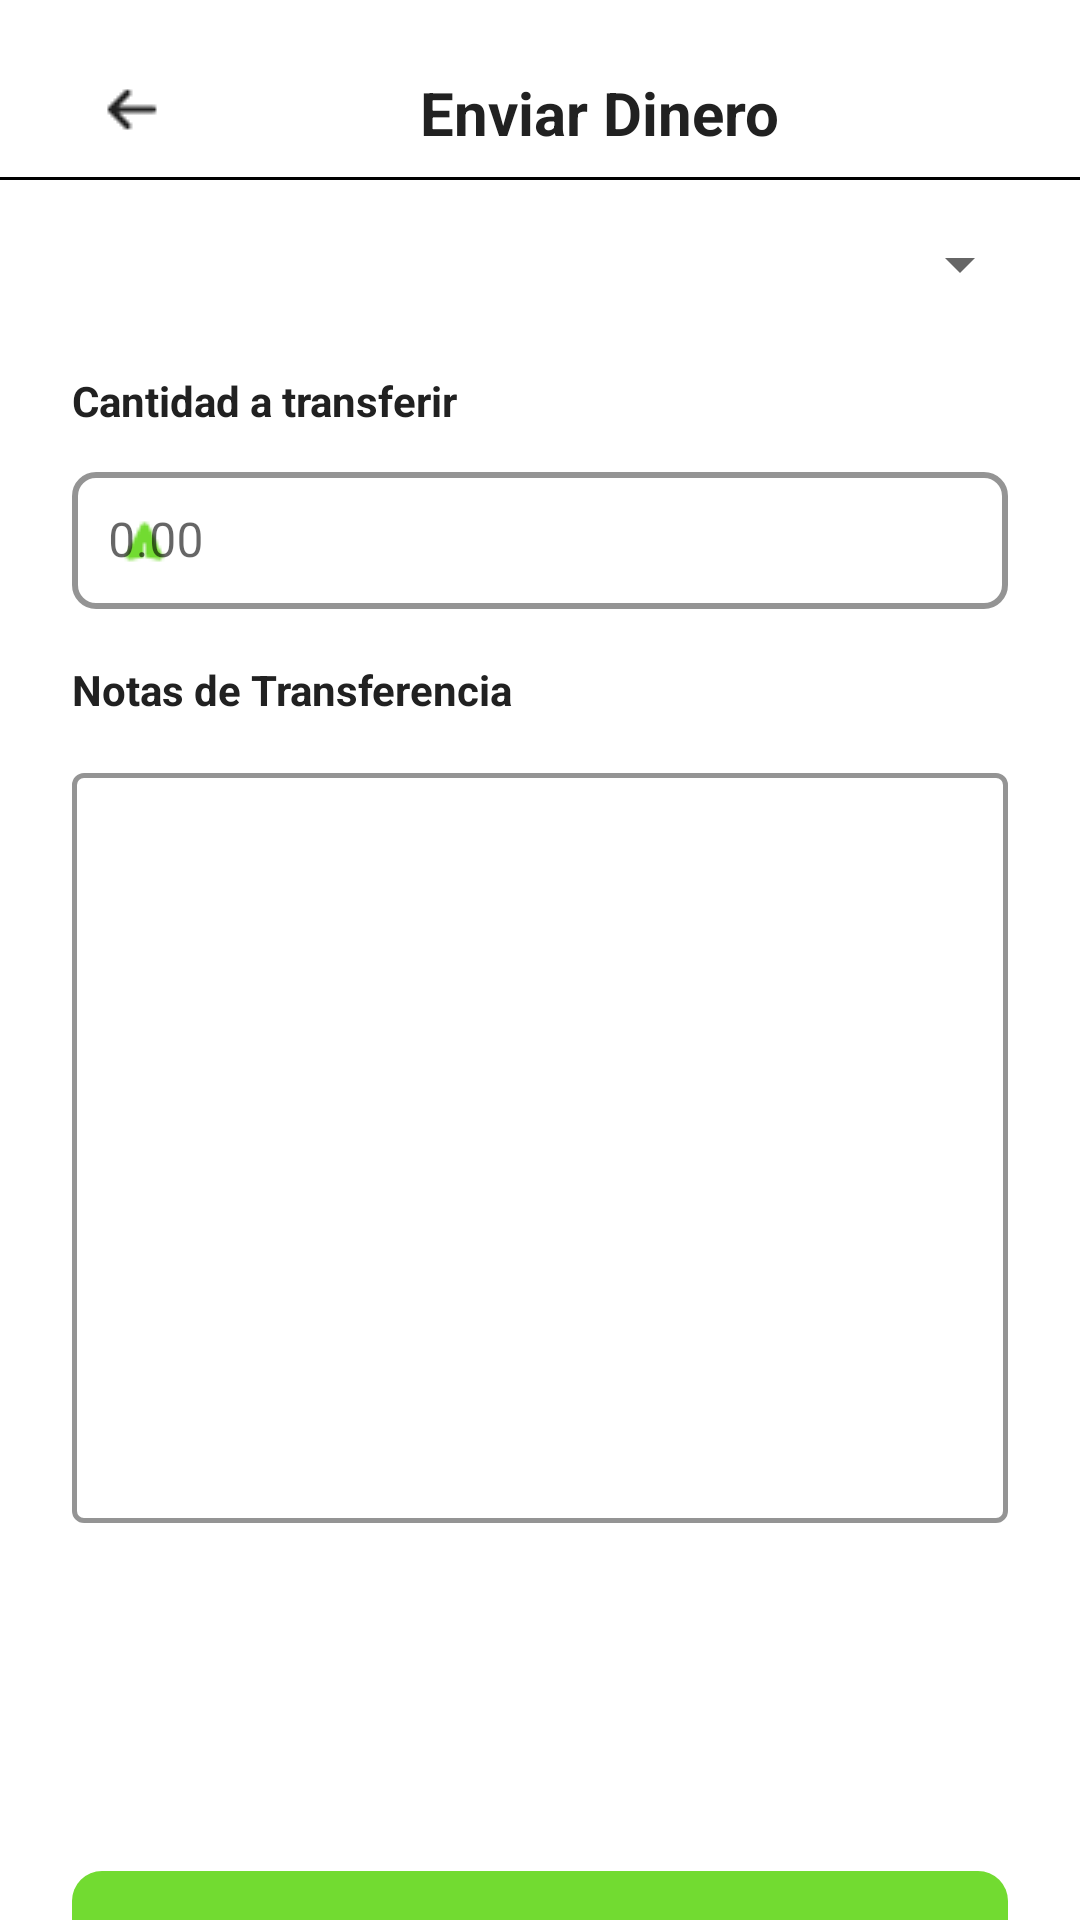

Icons on this 1080×1920 Android screen, each with its box as rect(x1, y1, x2, y2):
Volver: rect(107, 89, 157, 130)
